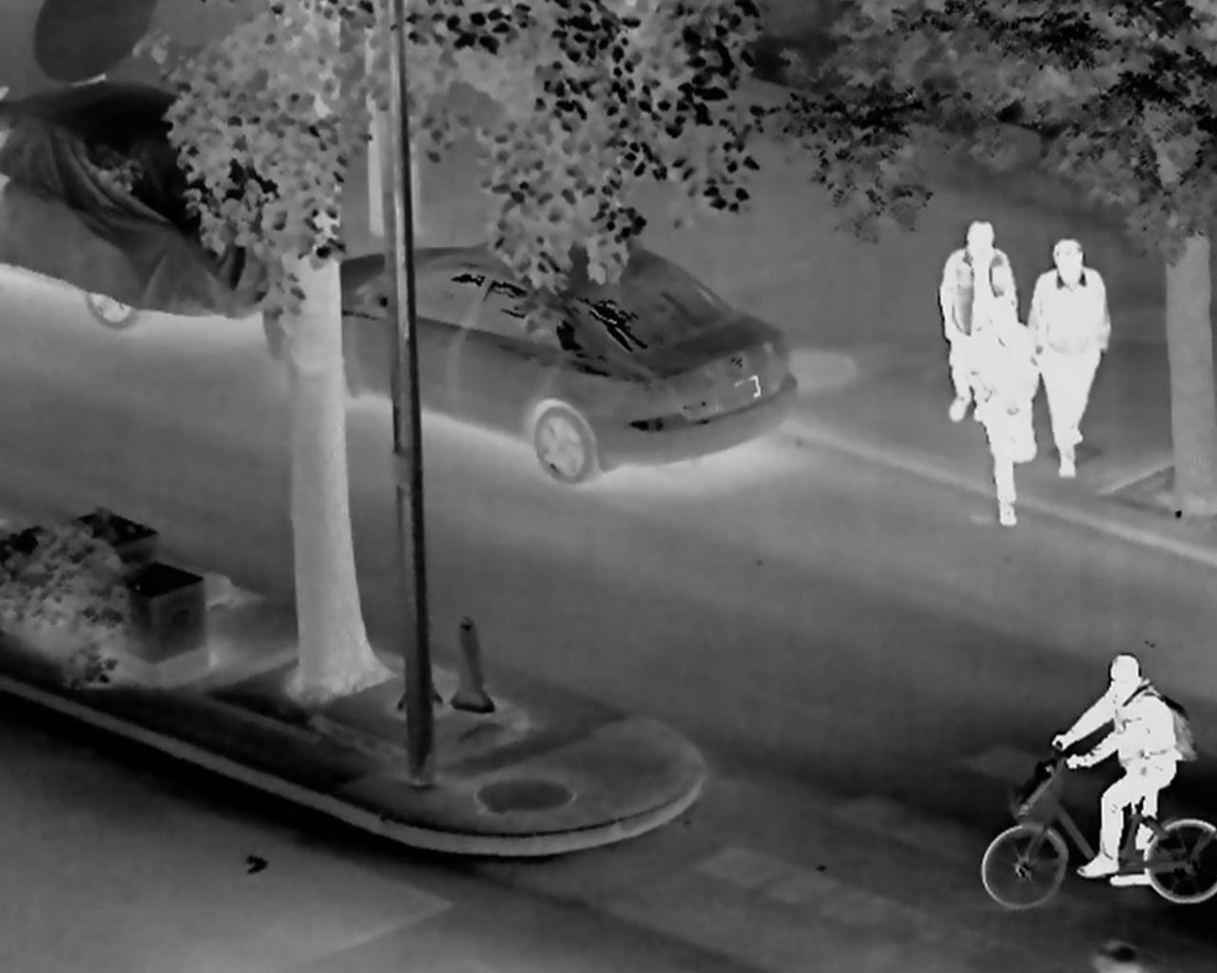person: (1049, 654, 1176, 887), (1030, 238, 1109, 472), (939, 220, 1016, 424), (968, 300, 1037, 525)
